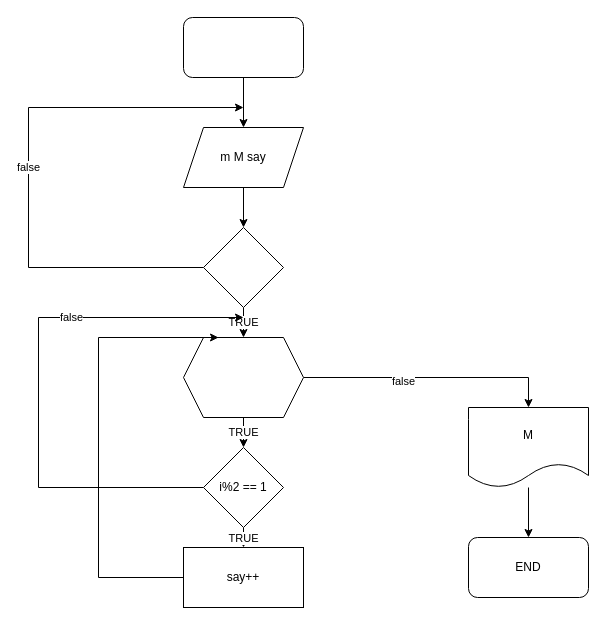
Some shapes in this 606 by 625 pixel diagram are drawn without their labels. The shapes that lost their labels are listed below. From the top down, each one's centre as x and y in pixels, then its label:
the point at 243,47: START
the point at 243,267: n < m
the point at 243,377: i = n; i<=m; i++
